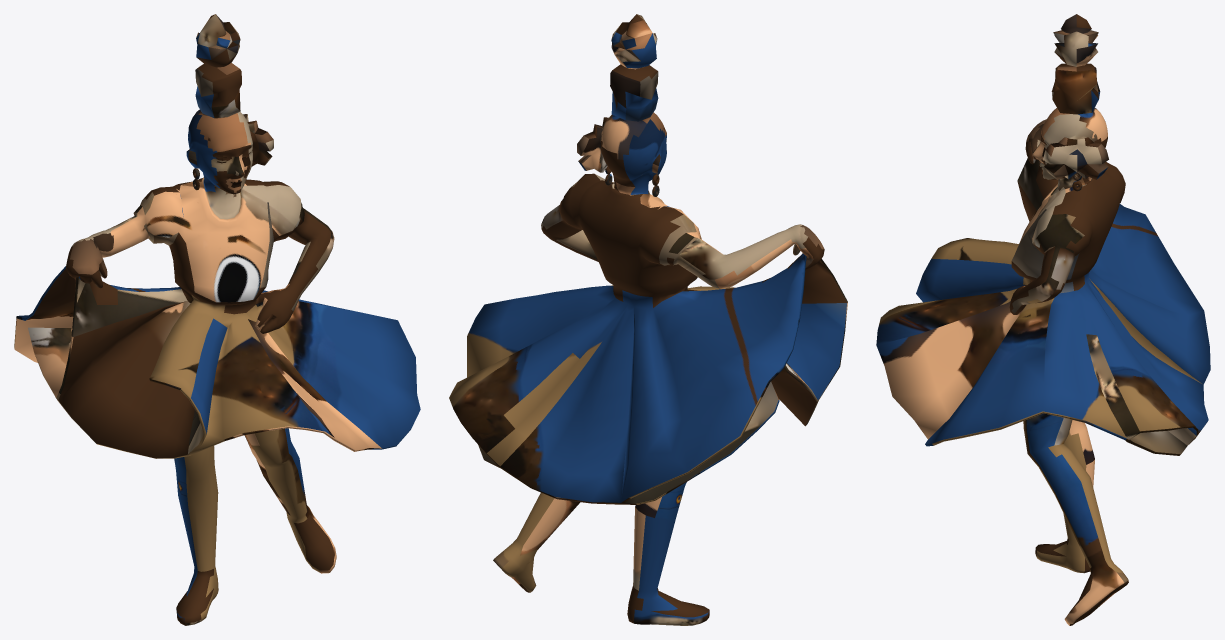
File: CHICA BAILANDO2.fbx
3 views of the same model, side by side, from view 1: azimuth 30°, elevation 25°; view 2: azimuth 150°, elevation 25°; view 3: azimuth 270°, elevation 25° (orthographic). The views are drawn at different scales.
Parts seen in each view (by area): view 1: mesh_rep_0_ori_repair_quad; view 2: mesh_rep_0_ori_repair_quad; view 3: mesh_rep_0_ori_repair_quad.
Boxes of the visible parts, box(x1,y1,x2,y2) form: mesh_rep_0_ori_repair_quad: box(14, 14, 420, 625); mesh_rep_0_ori_repair_quad: box(449, 14, 847, 625); mesh_rep_0_ori_repair_quad: box(876, 14, 1210, 625).
Size of the model in its own units: 67.59 by 111 by 60.03.
